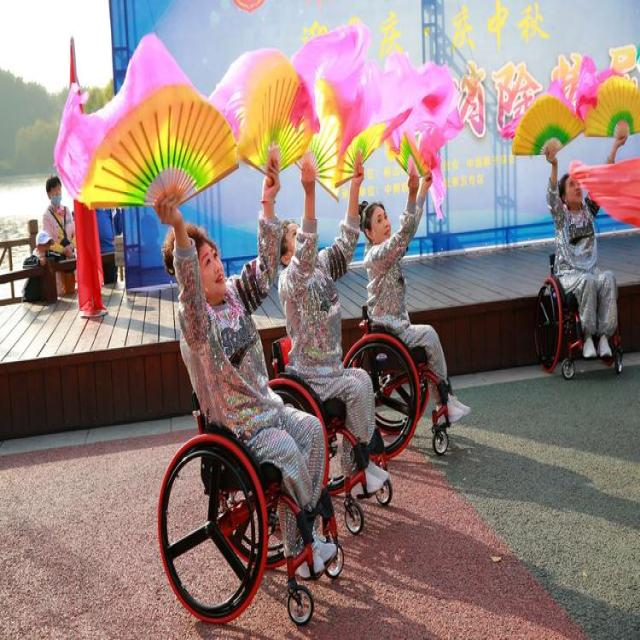wheelchairs: (153, 348, 347, 640), (331, 296, 463, 468), (528, 237, 630, 383)
